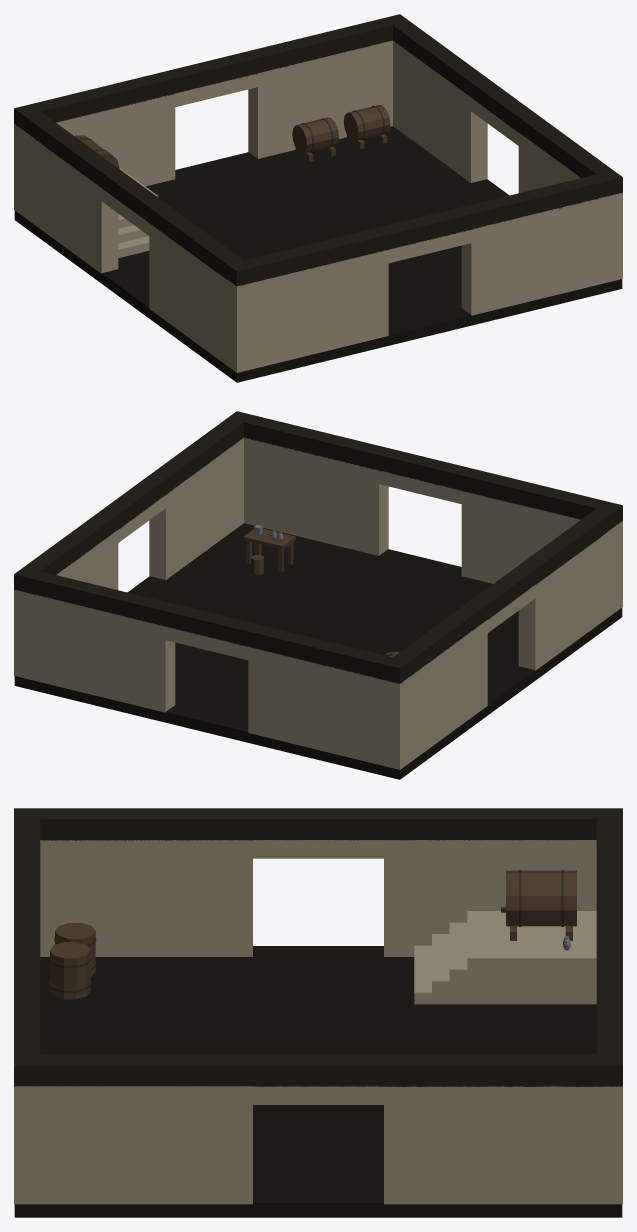
File: LateUndercroftStair.fbx
3 views of the same model, one above another, from view 1: azimuth 30°, elevation 25°; view 2: azimuth 150°, elevation 25°; view 3: azimuth 270°, elevation 25° (orthographic). The views are drawn at different scales.
Visible parts, largest first — view 1: LateUndercroftStair; view 2: LateUndercroftStair; view 3: LateUndercroftStair.
Part boxes in pixels (box(x1,y1,x2,y2)): LateUndercroftStair: box(14, 14, 622, 382); LateUndercroftStair: box(14, 411, 622, 779); LateUndercroftStair: box(14, 808, 622, 1217).
Size of the model in its own units: 1202 by 332 by 1202.
7 materials, 7 textured.
